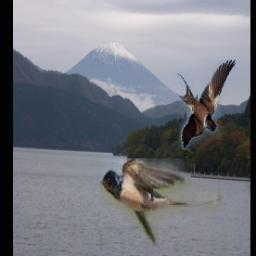Swallow: (100, 159, 223, 247), (171, 61, 236, 151)
